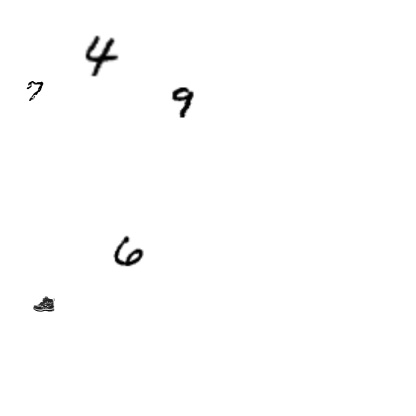4: (72, 26, 128, 82)
6: (106, 233, 148, 275)
7: (21, 74, 49, 102)
9: (162, 77, 204, 119)
Ankle_boot: (33, 292, 55, 314)
